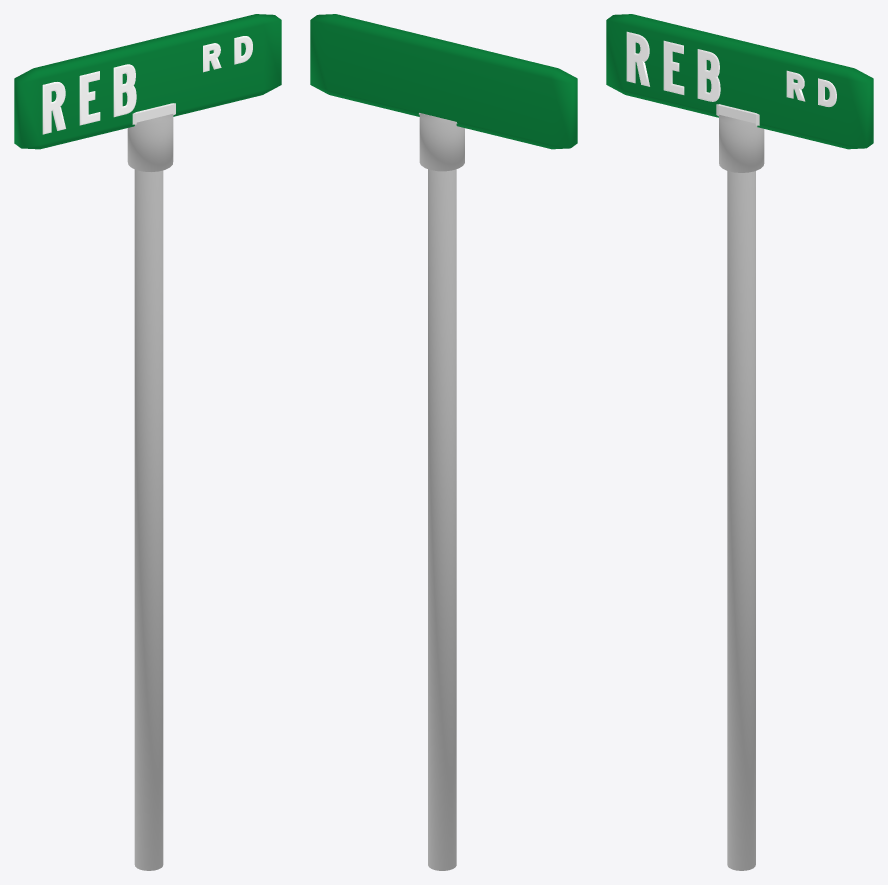
Rendered from Reb_Road_Street_Sign.glb.
The picture shows the model from 3 angles, left to right: view 1: azimuth 30°, elevation 25°; view 2: azimuth 150°, elevation 25°; view 3: azimuth 330°, elevation 25°; orthographic projection.
Parts seen in each view (by area): view 1: Object_6, Object_3, Object_4, Object_5; view 2: Object_6, Object_3; view 3: Object_6, Object_3, Object_4, Object_5.
Part boxes in pixels (left/top/right/bottom): Object_6: left=127, top=114, right=173, bottom=870; Object_3: left=14, top=14, right=281, bottom=149; Object_4: left=44, top=38, right=251, bottom=132; Object_5: left=42, top=36, right=252, bottom=134; Object_6: left=419, top=113, right=464, bottom=870; Object_3: left=310, top=14, right=577, bottom=149; Object_6: left=719, top=114, right=764, bottom=870; Object_3: left=606, top=14, right=873, bottom=149; Object_4: left=628, top=34, right=834, bottom=105; Object_5: left=626, top=31, right=836, bottom=106.
Bounding box in the file's own units: 3.94 × 11.87 × 0.595.
